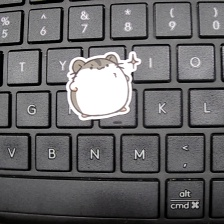mouse: (66, 50, 144, 123)
